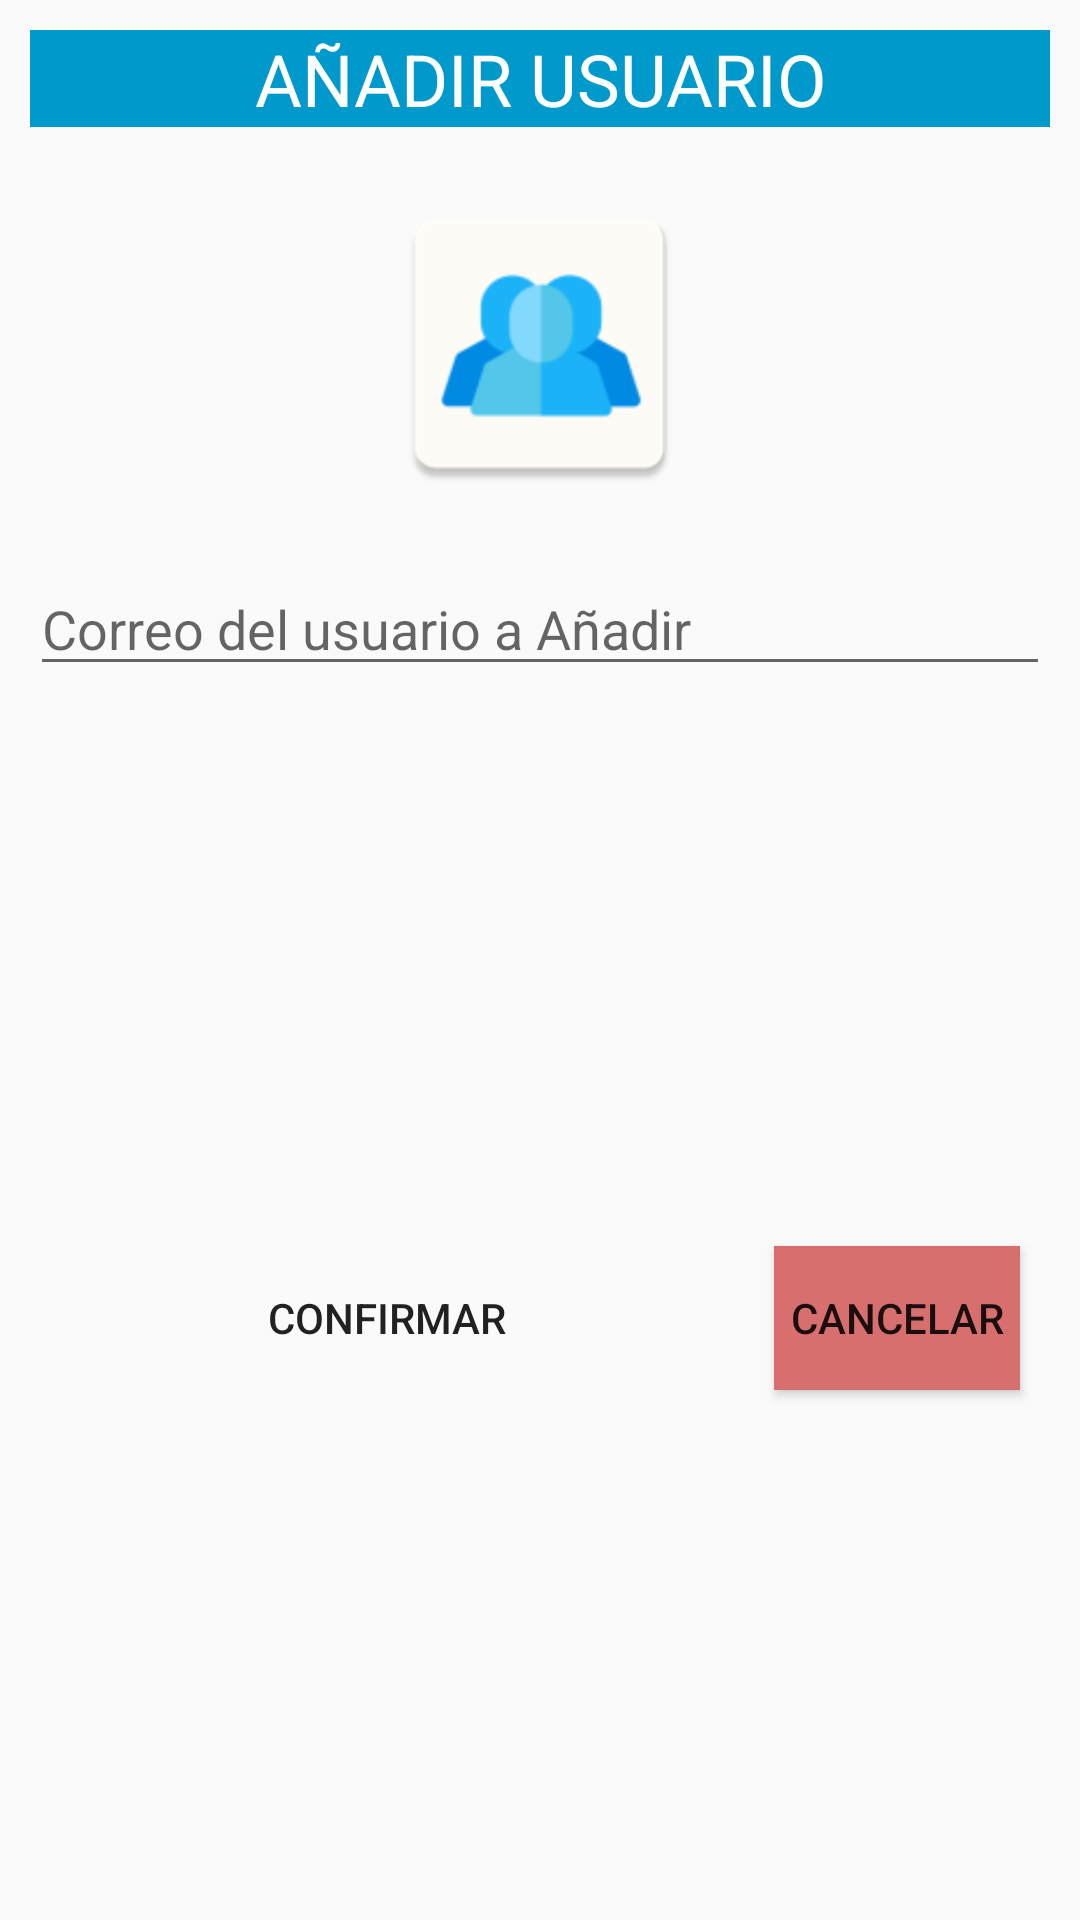

Named icons in this screenshot (1080 x 1920) and their bounding boxes, (x1, y1, x2, y2):
usuarios: (415, 233, 666, 477)
